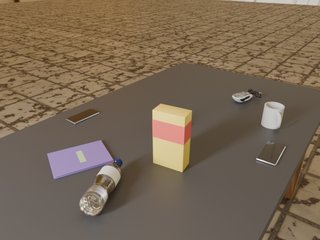book: (47, 140, 113, 179)
bottle: (79, 159, 122, 216)
box: (153, 104, 192, 172)
cup: (261, 102, 284, 129)
mouse: (232, 92, 253, 102)
phone: (256, 141, 285, 166), (66, 109, 99, 124)
